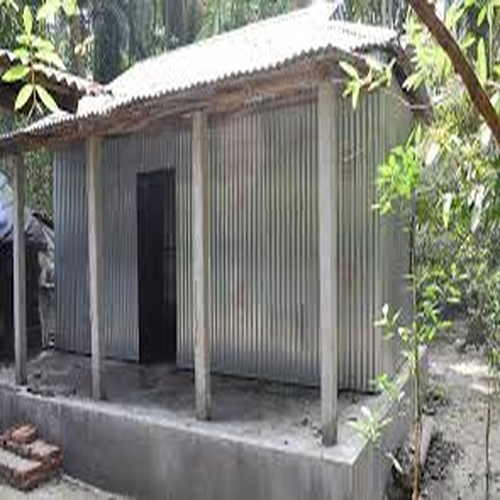Tin-shade House: (38, 26, 442, 430)
